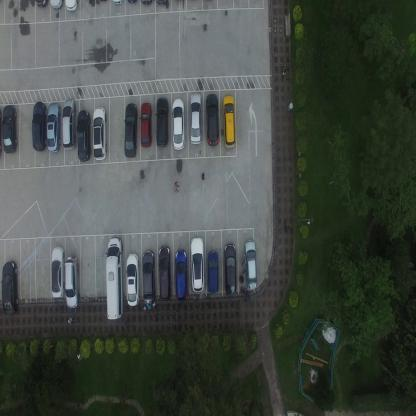car: (105, 235, 124, 321), (2, 260, 18, 317), (92, 104, 108, 160), (190, 236, 205, 294), (76, 108, 92, 162), (123, 102, 138, 159), (1, 104, 17, 154), (142, 249, 156, 306), (64, 256, 79, 309), (222, 94, 236, 150), (223, 242, 237, 298), (46, 102, 61, 154), (171, 96, 185, 151), (51, 245, 65, 300), (205, 93, 219, 147), (243, 238, 257, 291), (155, 96, 169, 148), (126, 251, 139, 307), (32, 100, 46, 152), (159, 244, 171, 304), (62, 96, 75, 151), (174, 248, 187, 302), (190, 92, 202, 145), (140, 100, 152, 148), (207, 250, 219, 294), (49, 0, 63, 13), (64, 0, 78, 12), (34, 0, 48, 10)
